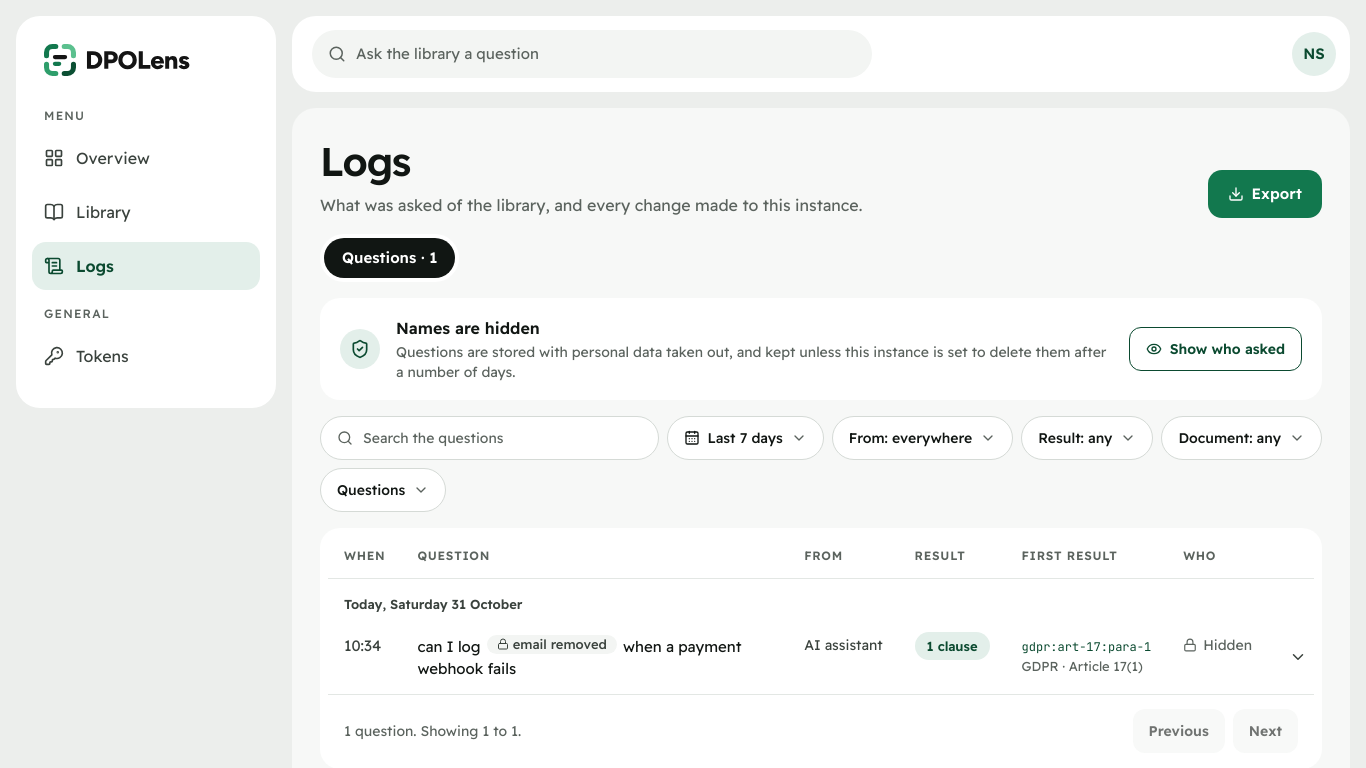
Test: the questions log › asks before showing names, then asks the API for them
Click the button "Show who asked" at (1215, 349), box [1129, 327, 1302, 371]
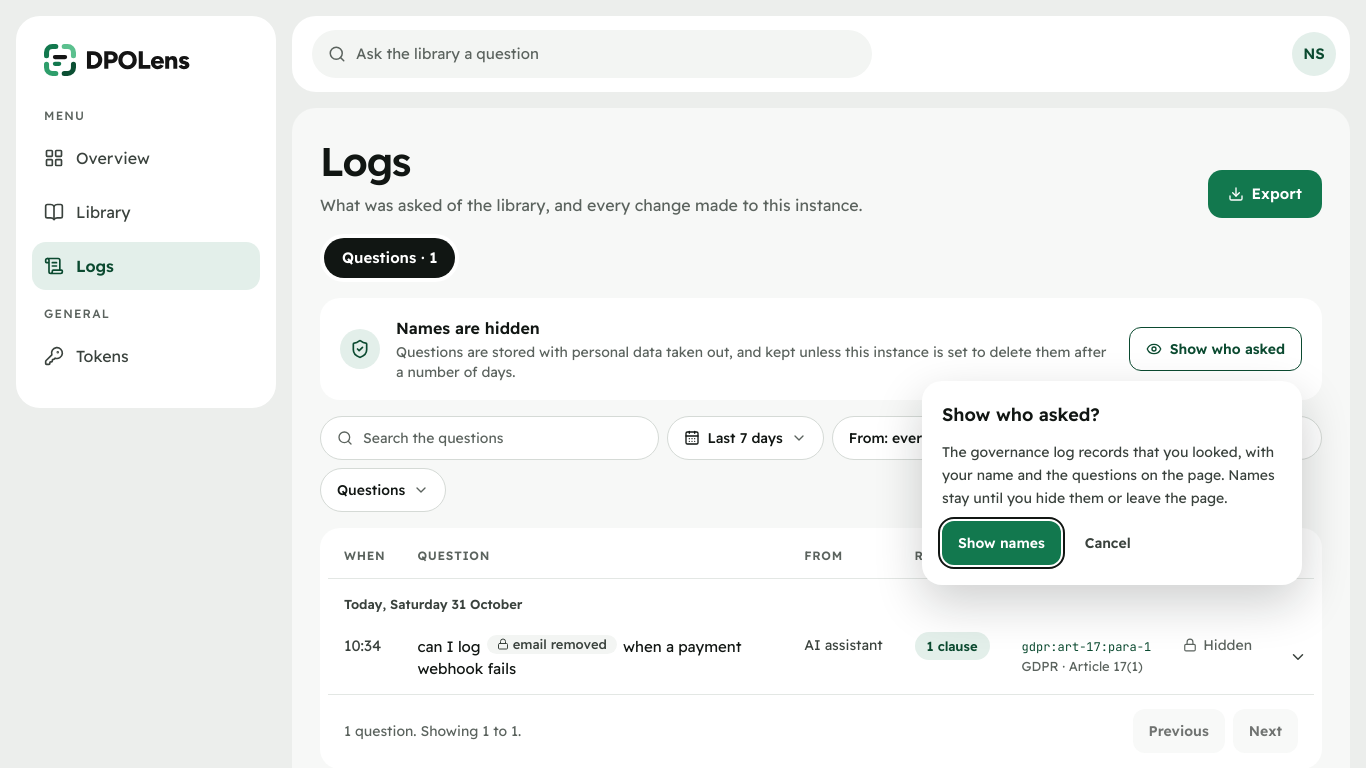
Expected: the text "records that you looked" is shown, [942, 443, 1275, 506]
Click the button "Show names" at (1001, 543), box [942, 521, 1061, 565]
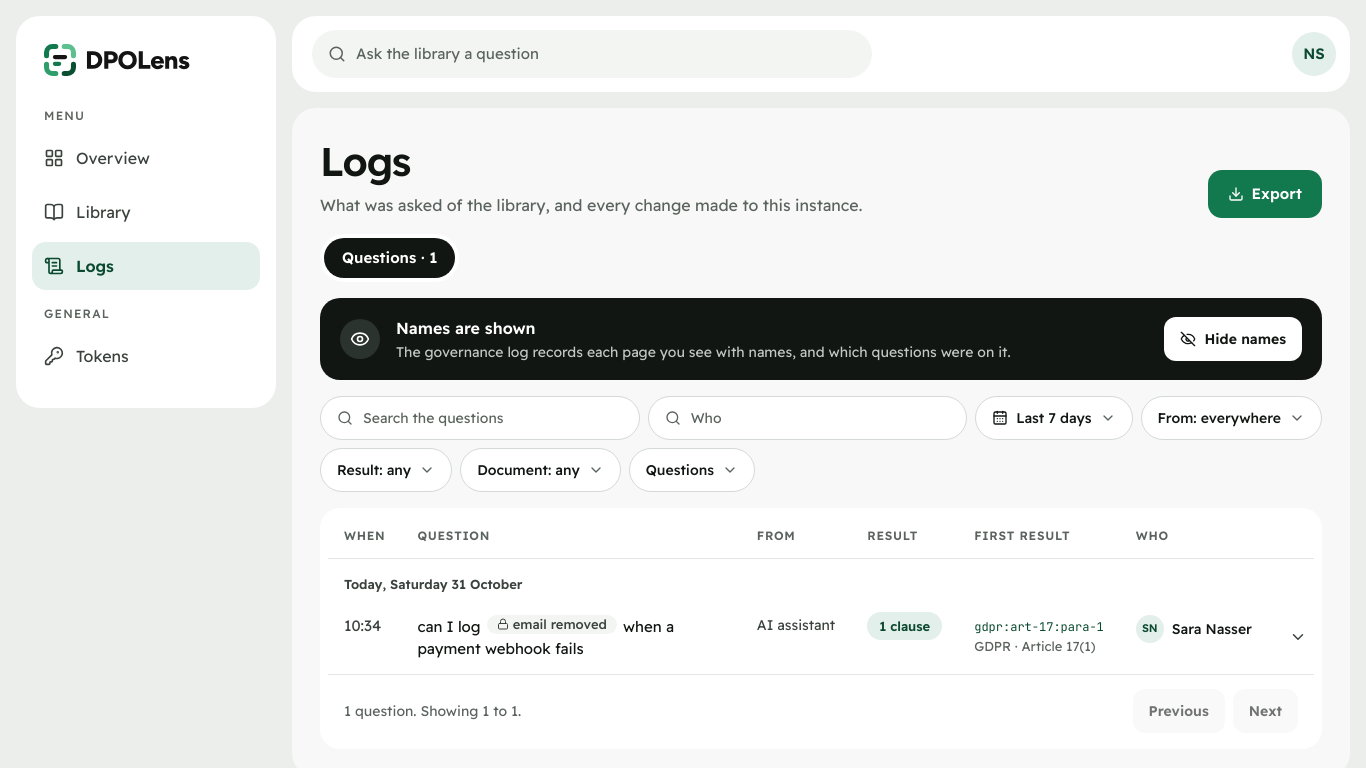
Expected: the text "Sara Nasser" is shown, [1172, 620, 1252, 638]
Expected: the text "Names are shown" is shown, [396, 318, 536, 338]
